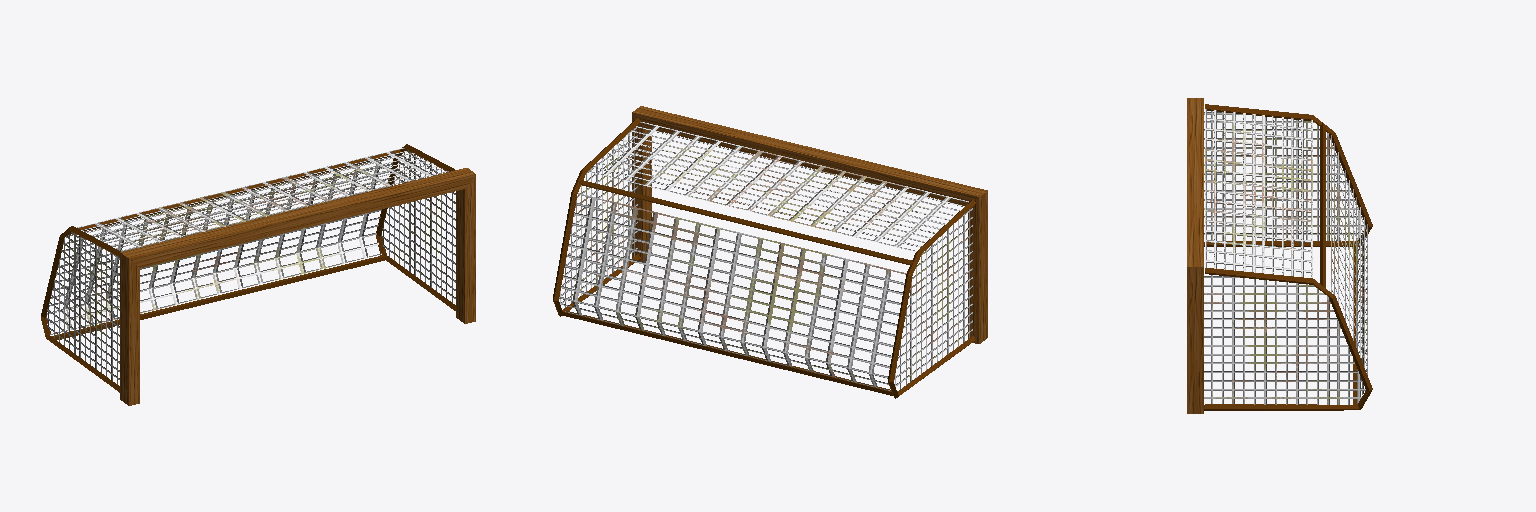
3 renders of one model, left to right at view 1: azimuth 30°, elevation 25°; view 2: azimuth 150°, elevation 25°; view 3: azimuth 270°, elevation 25°, orthographic.
Visible parts, largest first — view 1: (unnamed)_0; view 2: (unnamed)_0; view 3: (unnamed)_0.
Boxes of the visible parts, <box> form: (unnamed)_0: <box>41,144,475,405</box>; (unnamed)_0: <box>553,106,987,398</box>; (unnamed)_0: <box>1187,98,1372,413</box>.
Size of the model in its own units: 38.37 by 15.58 by 17.83.
Materials: 1 (1 with a texture image).